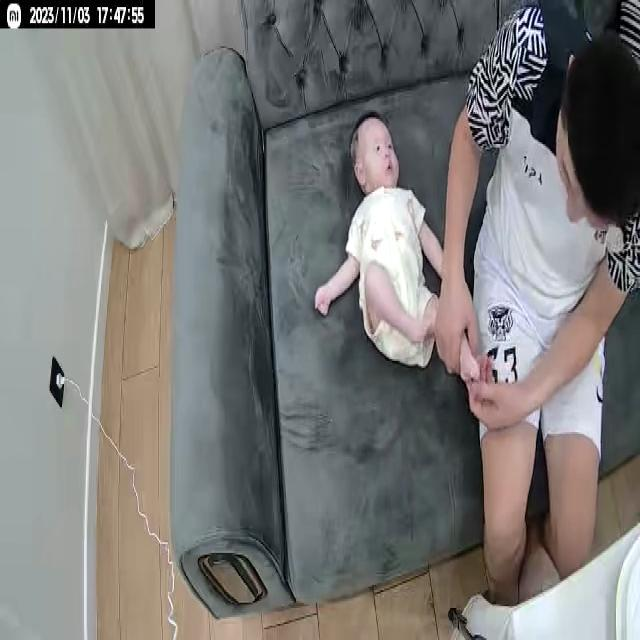baby: (314, 108, 484, 387)
